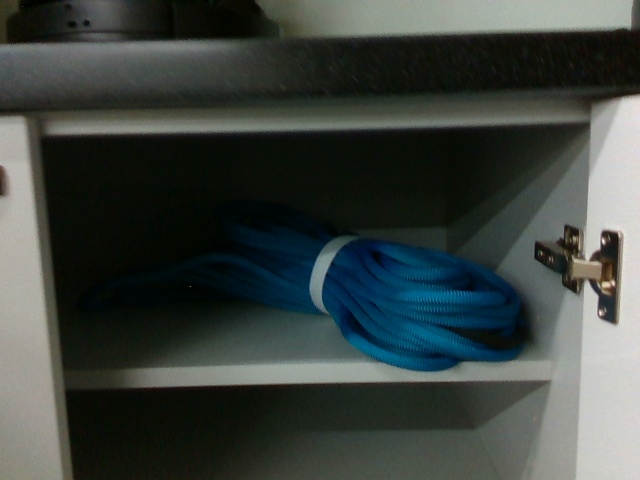rope: (296, 235, 537, 366)
